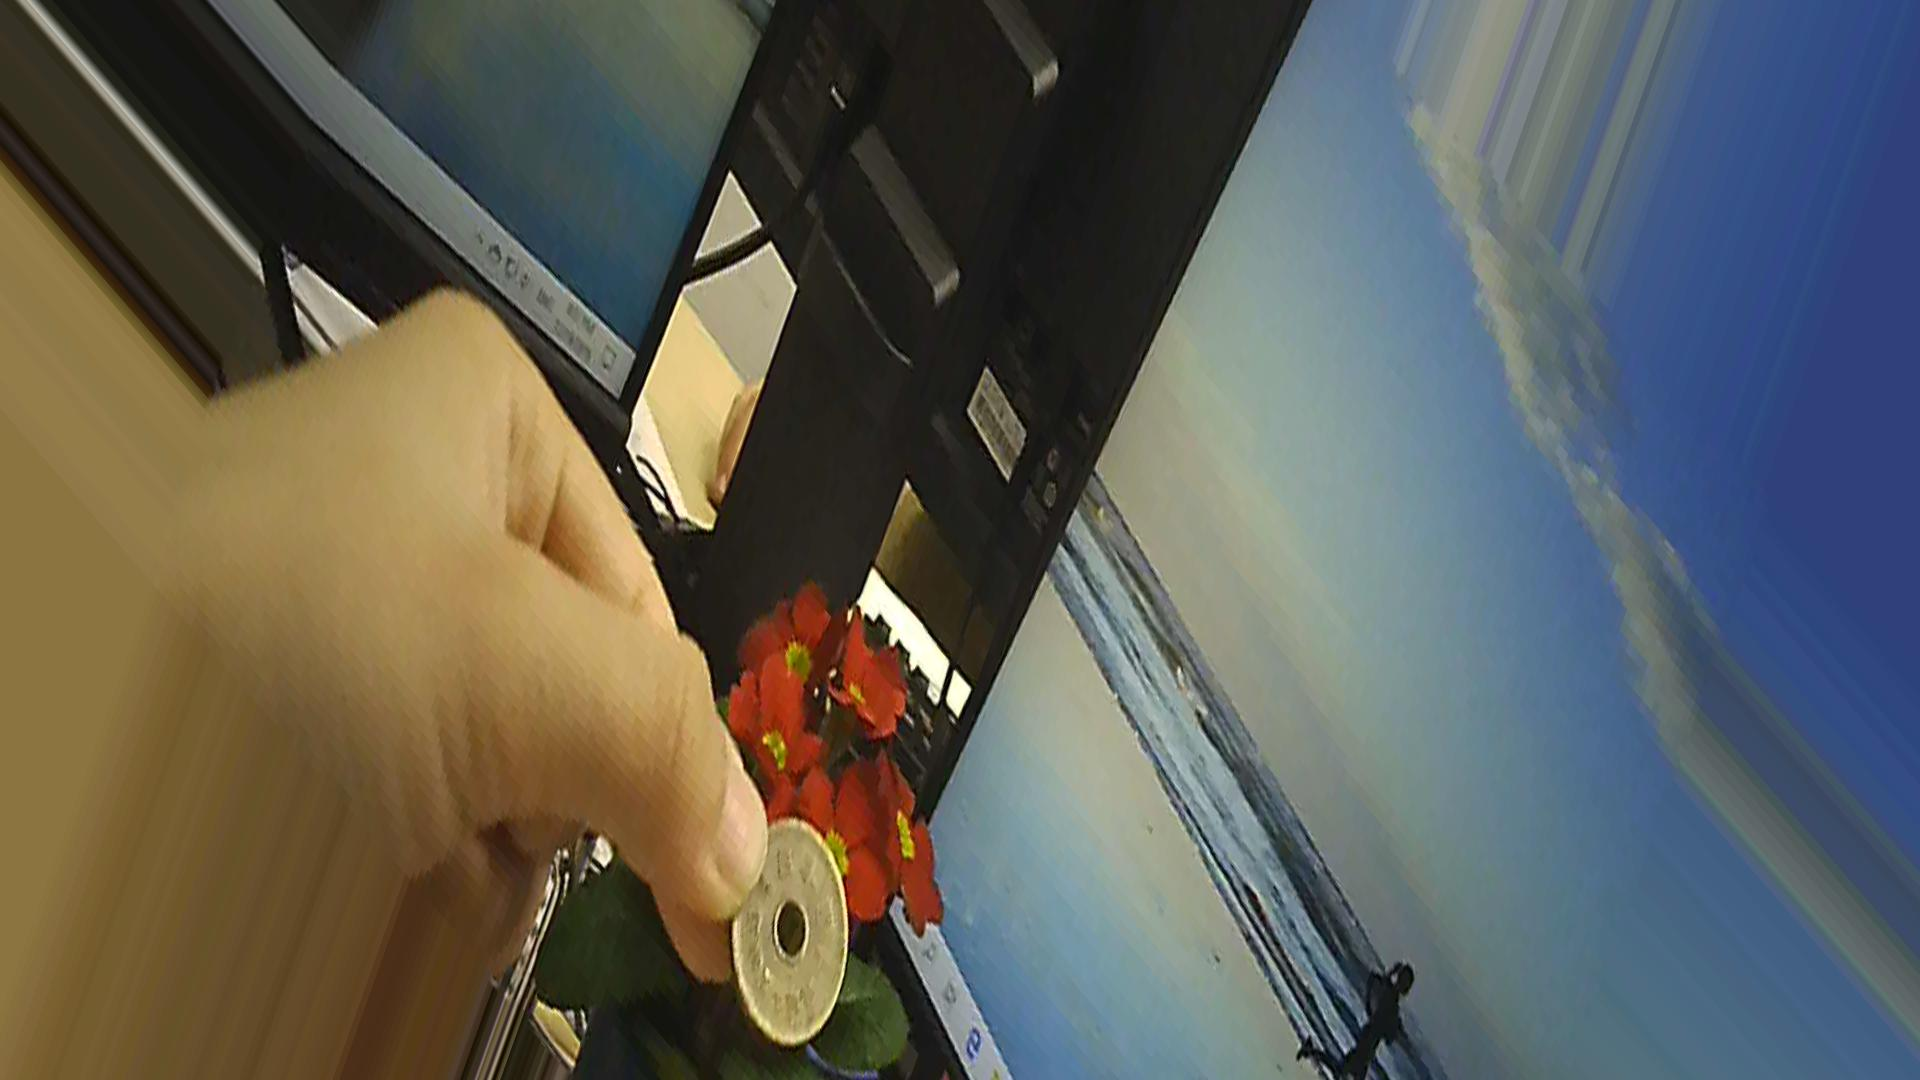5 Yen: (728, 812, 853, 1048)
